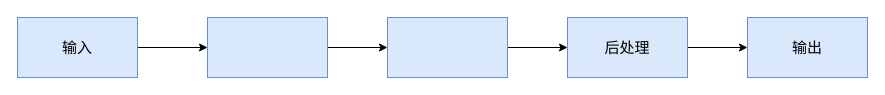
Image size: 885x95. Some labels were removed from this diagram. Here are the shapes that lost their labels. From the top down, the centre of each, then its label:
point (267, 47): 预处理
point (447, 47): 模型处理
